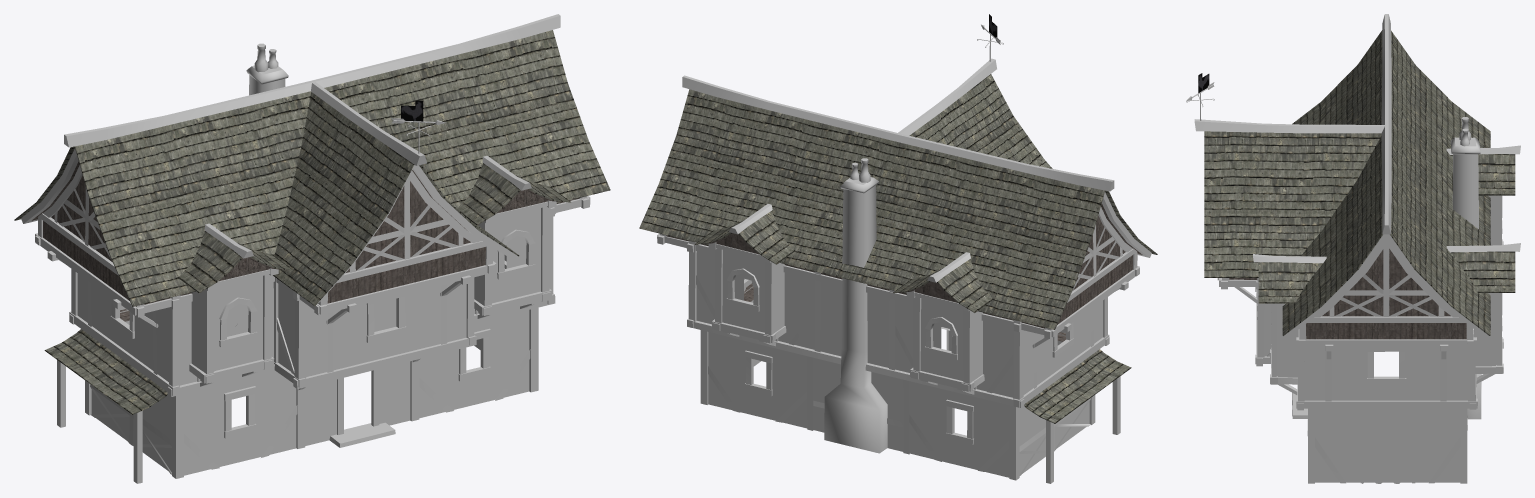
File: mw_type_1_cottage_07_LOD1.FBX
3 renders of one model, left to right at view 1: azimuth 30°, elevation 25°; view 2: azimuth 150°, elevation 25°; view 3: azimuth 270°, elevation 25°, orthographic. The views are drawn at different scales.
Parts seen in each view (by area): view 1: mw_type_1_cottage_07_roof, mw_type_1_cottage_07_wood, mw_type_1_cottage_07_stone, mw_type_1_cottage_07_vane; view 2: mw_type_1_cottage_07_roof, mw_type_1_cottage_07_stone, mw_type_1_cottage_07_wood; view 3: mw_type_1_cottage_07_roof, mw_type_1_cottage_07_wood, mw_type_1_cottage_07_stone.
Part boxes in pixels (<box>): mw_type_1_cottage_07_roof: <box>14,30,610,414</box>; mw_type_1_cottage_07_wood: <box>21,14,590,483</box>; mw_type_1_cottage_07_stone: <box>77,43,540,475</box>; mw_type_1_cottage_07_vane: <box>391,100,446,153</box>; mw_type_1_cottage_07_roof: <box>639,74,1157,423</box>; mw_type_1_cottage_07_stone: <box>696,158,1102,477</box>; mw_type_1_cottage_07_wood: <box>657,58,1151,483</box>; mw_type_1_cottage_07_roof: <box>1204,30,1515,335</box>; mw_type_1_cottage_07_wood: <box>1194,14,1520,483</box>; mw_type_1_cottage_07_stone: <box>1264,117,1496,482</box>.
Size of what is drawn, in the model's own units: 2004 by 1469 by 1341.
